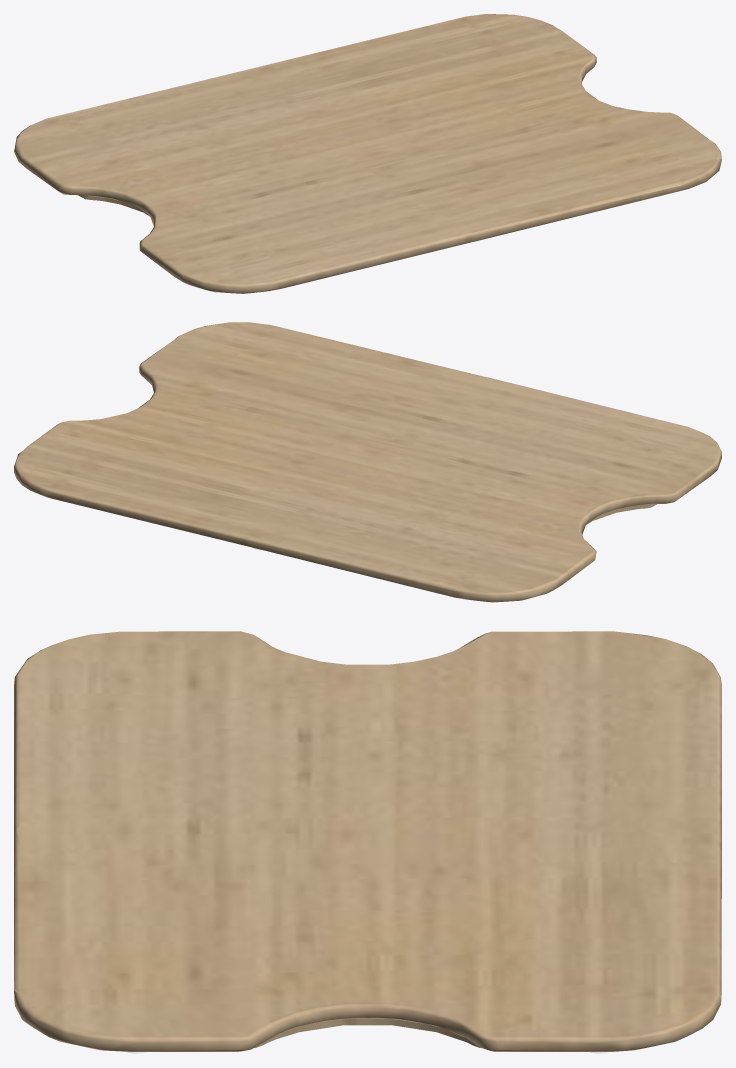
Rendered from 30 - NORRÅVA Lid - bamboo 42x31 cm.glb.
3 renders of one model, top to bottom at view 1: azimuth 30°, elevation 25°; view 2: azimuth 150°, elevation 25°; view 3: azimuth 270°, elevation 25°, orthographic. The views are drawn at different scales.
Parts seen in each view (by area): view 1: ASY_ART_00542861_S01_NV01; view 2: ASY_ART_00542861_S01_NV01; view 3: ASY_ART_00542861_S01_NV01.
Boxes of the visible parts, <box> form: ASY_ART_00542861_S01_NV01: <box>14,14,721,293</box>; ASY_ART_00542861_S01_NV01: <box>14,322,721,602</box>; ASY_ART_00542861_S01_NV01: <box>14,631,721,1053</box>.
Size of the model in its own units: 0.4212 by 0.0123 by 0.3073.
Materials: 2 (2 with a texture image).
